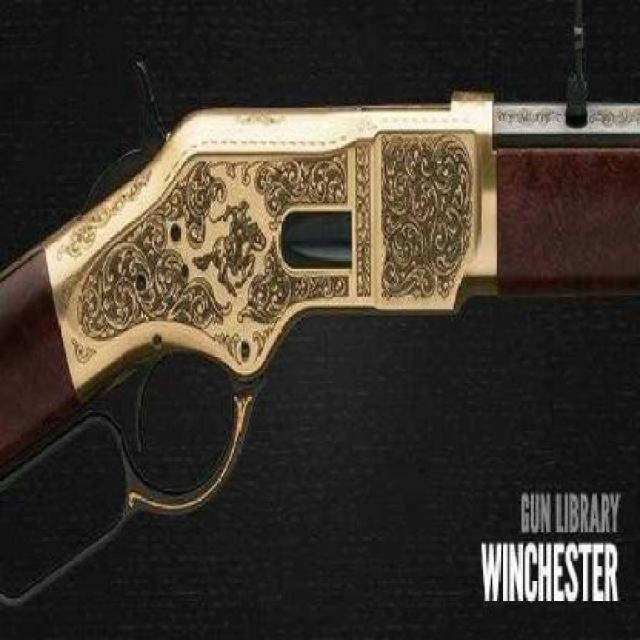weapon: (0, 40, 640, 612)
